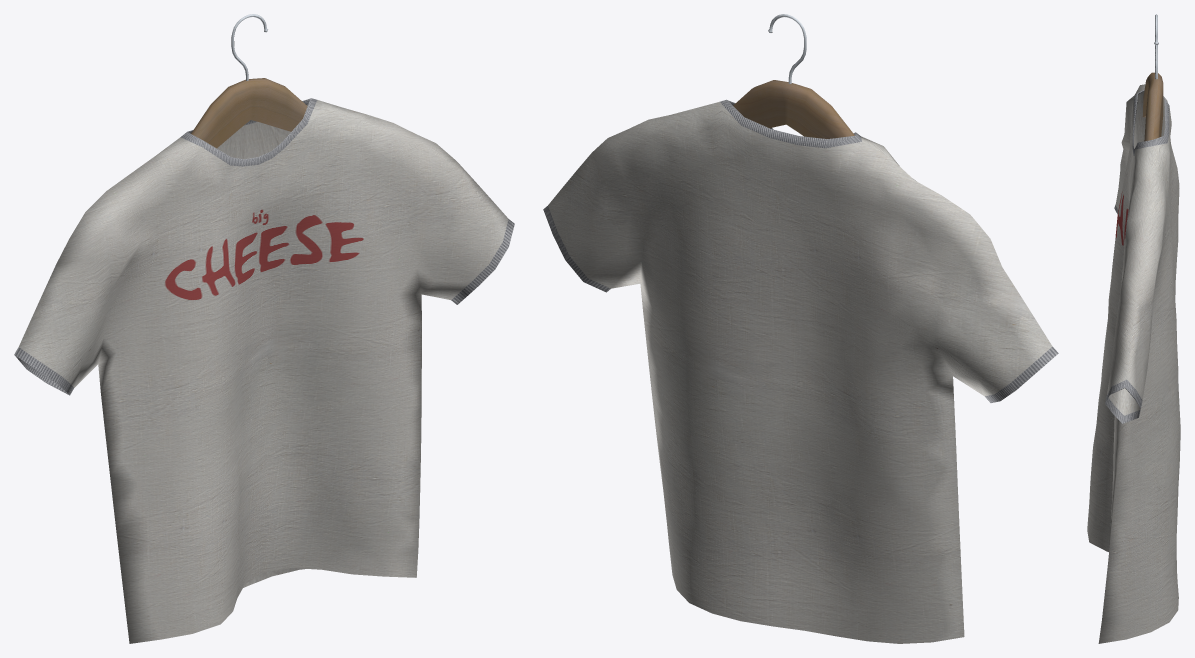
The model's file is source.glb.
3 views of the same model, side by side, from view 1: azimuth 30°, elevation 25°; view 2: azimuth 150°, elevation 25°; view 3: azimuth 270°, elevation 25° (orthographic). The views are drawn at different scales.
Parts seen in each view (by area): view 1: ShirtOnHanger_Shirt_0, ShirtOnHanger_Hanger_0; view 2: ShirtOnHanger_Shirt_0, ShirtOnHanger_Hanger_0; view 3: ShirtOnHanger_Shirt_0, ShirtOnHanger_Hanger_0.
Part boxes in pixels (x1,y1,x2,y2): ShirtOnHanger_Shirt_0: [14, 98, 514, 643]; ShirtOnHanger_Hanger_0: [191, 14, 307, 148]; ShirtOnHanger_Shirt_0: [543, 99, 1058, 643]; ShirtOnHanger_Hanger_0: [733, 14, 854, 138]; ShirtOnHanger_Shirt_0: [1087, 84, 1180, 643]; ShirtOnHanger_Hanger_0: [1142, 14, 1163, 141].
Bounding box in the file's own units: 0.6419 × 0.7174 × 0.1073.
Materials: 2 (2 with a texture image).
